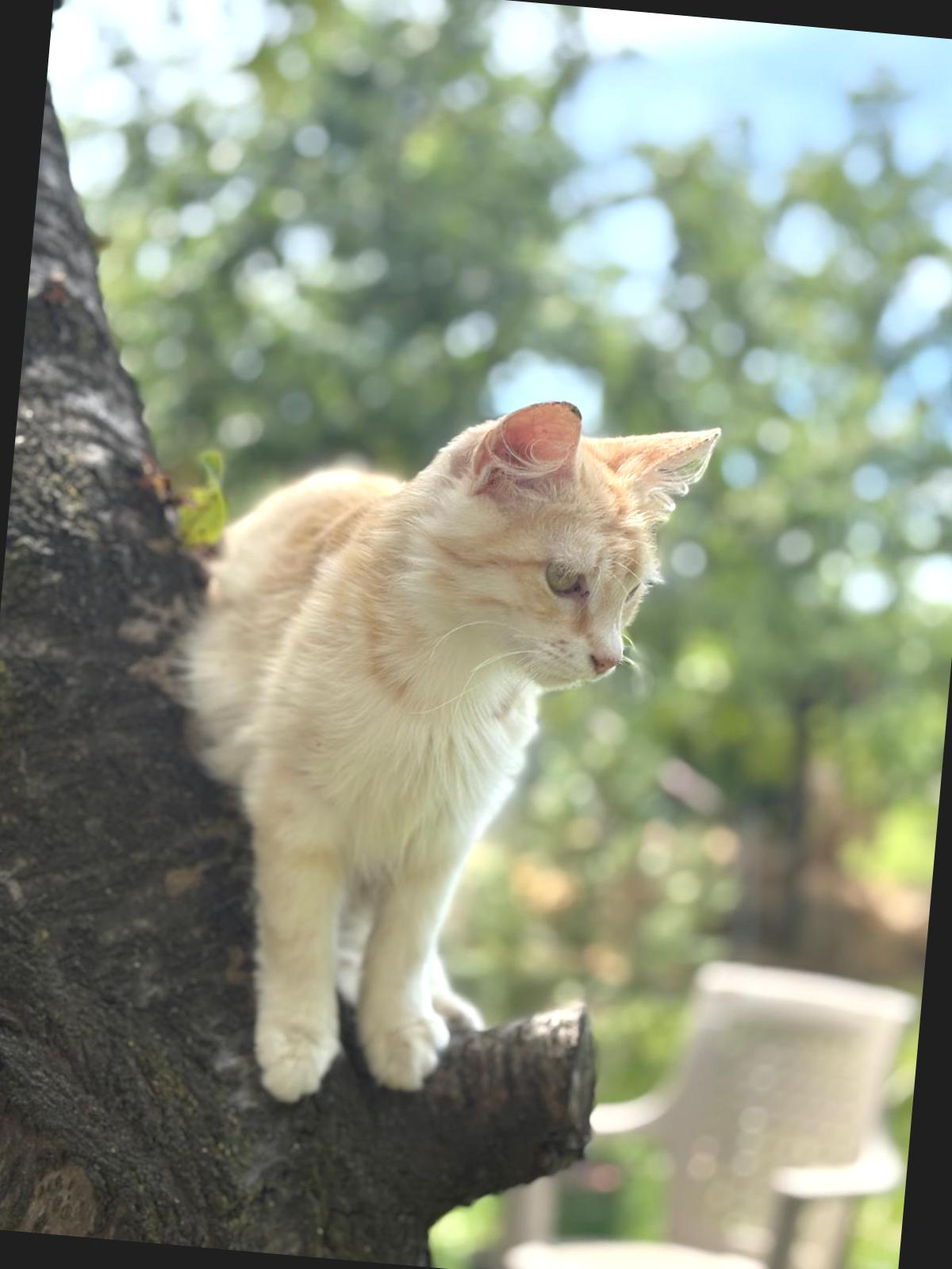macka: (142, 370, 723, 1134)
